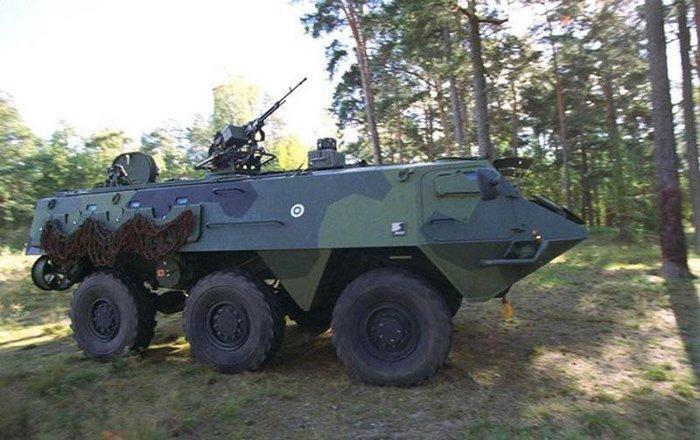MIL_IFV: (22, 126, 588, 389)
